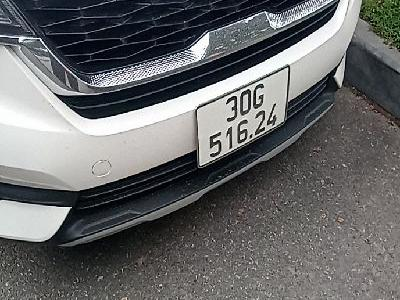car: (196, 66, 289, 169)
